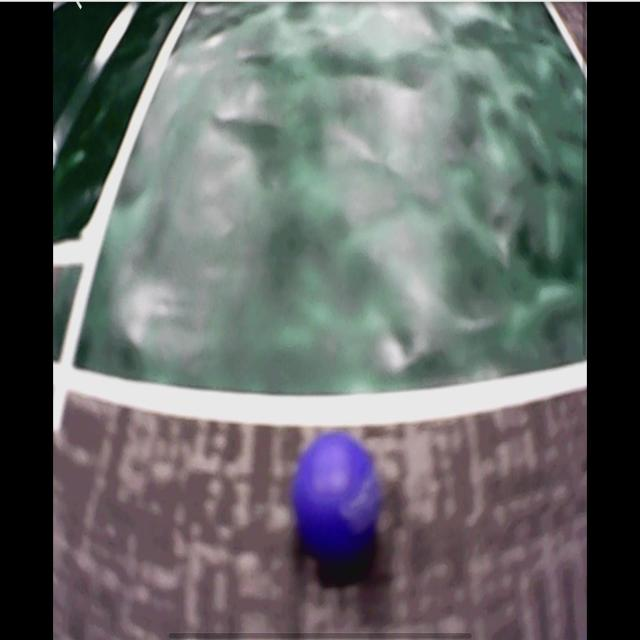ball: (291, 436, 381, 560)
